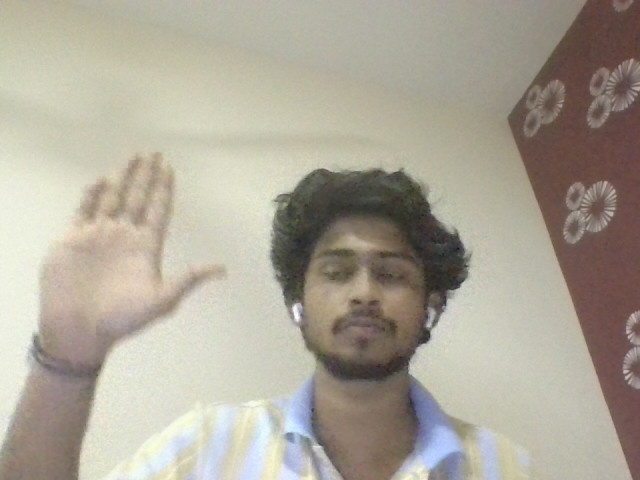hello: (25, 147, 242, 359)
